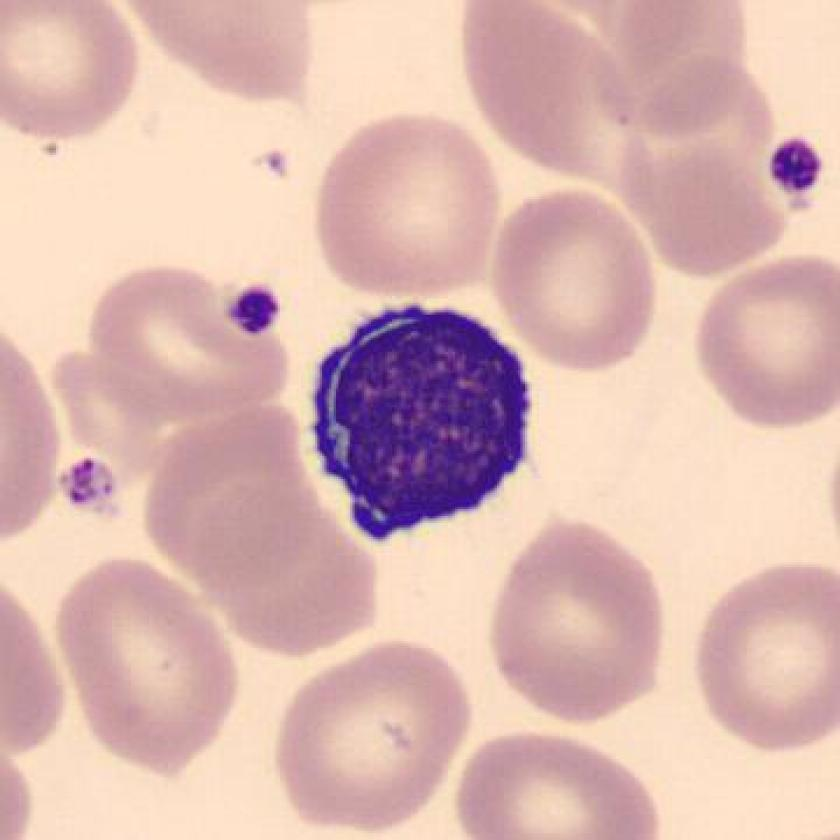lymphocyte: (302, 293, 549, 561)
platelets: (764, 133, 829, 206), (51, 456, 125, 512), (225, 284, 287, 342)
